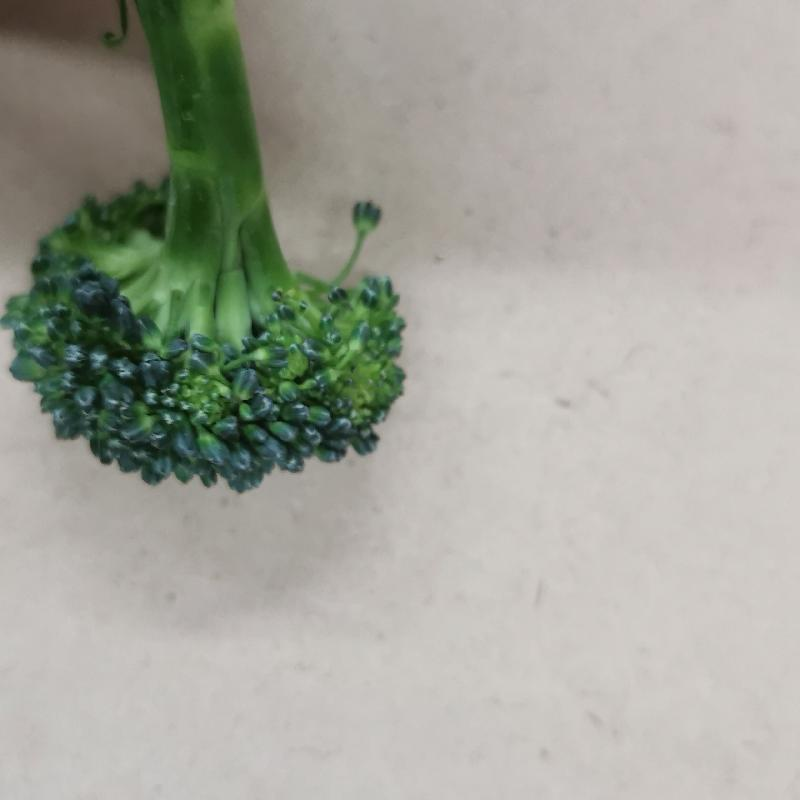broccoli: (10, 1, 410, 494)
